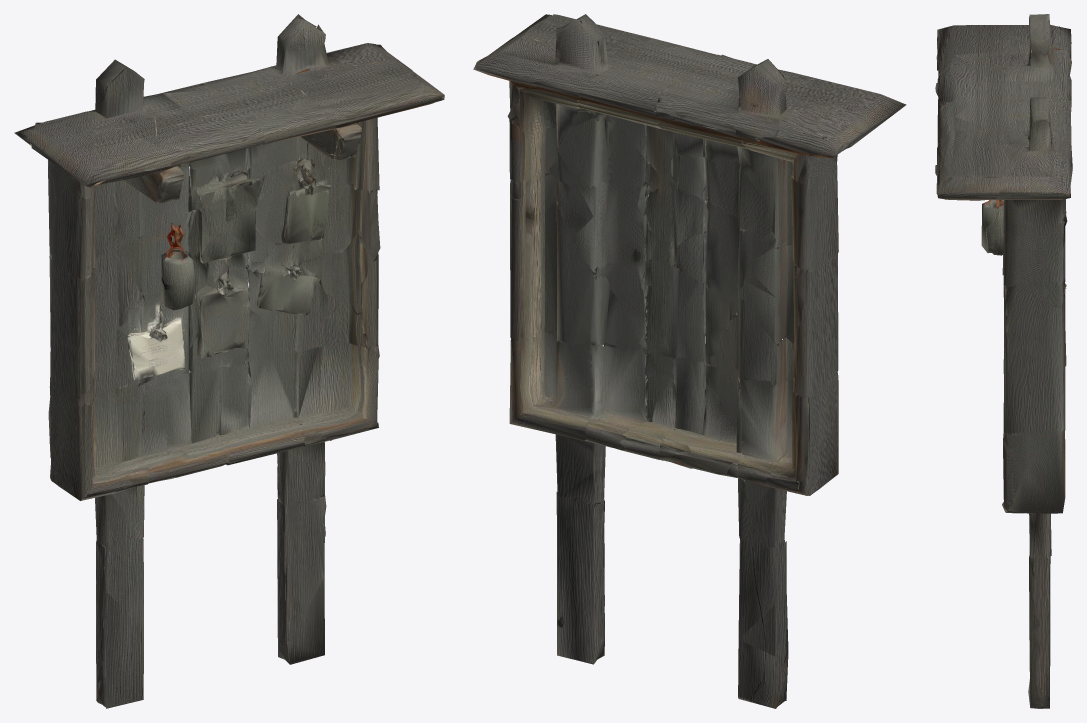
The model's file is notice-board-interior-lod.glb.
3 views of the same model, side by side, from view 1: azimuth 30°, elevation 25°; view 2: azimuth 150°, elevation 25°; view 3: azimuth 270°, elevation 25° (orthographic). The views are drawn at different scales.
Parts seen in each view (by area): view 1: Mesh_0; view 2: Mesh_0; view 3: Mesh_0.
Part boxes in pixels (left/top/right/bottom): Mesh_0: left=14, top=14, right=444, bottom=708; Mesh_0: left=473, top=14, right=906, bottom=708; Mesh_0: left=935, top=14, right=1072, bottom=708.
Bounding box in the file's own units: 1.13 × 1.9 × 0.3923.
1 material, 1 textured.
